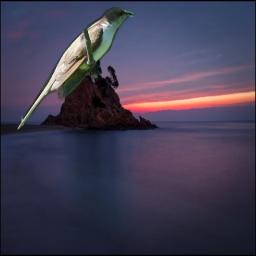Cuckoo: (15, 7, 133, 132)
